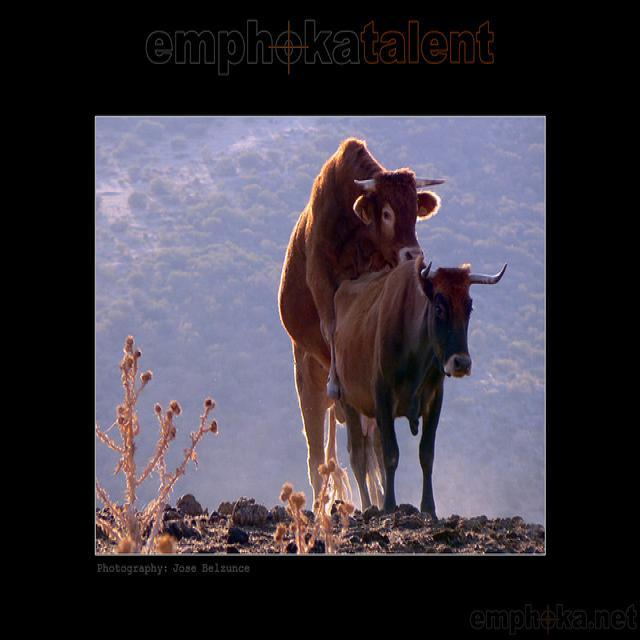cow: (272, 135, 446, 507), (332, 250, 505, 522)
